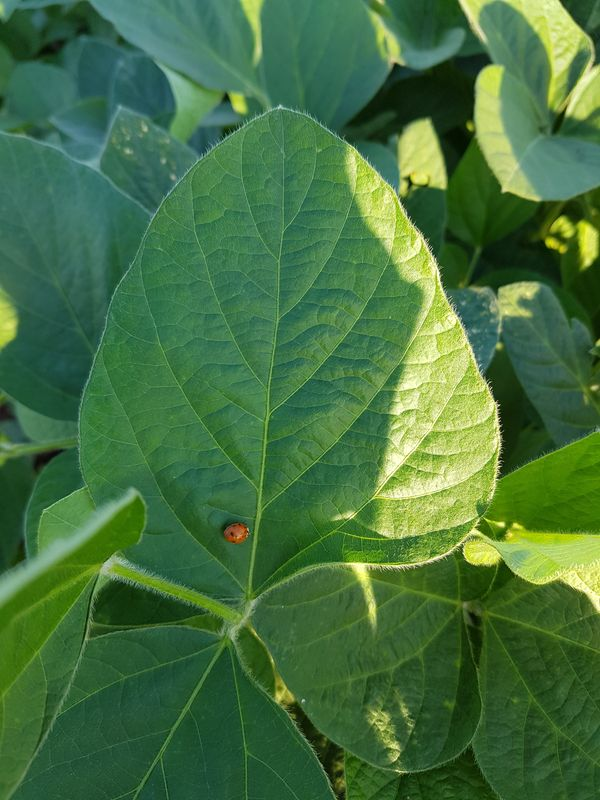Coccinellidae: (211, 513, 259, 555)
